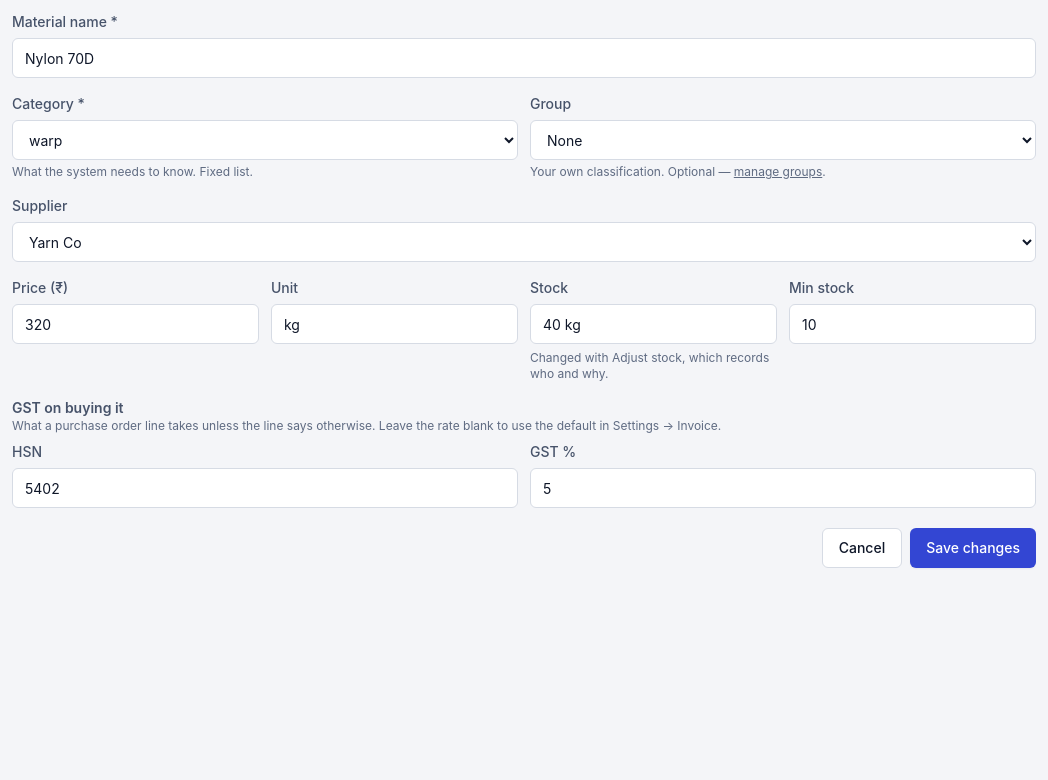
Scenario: HSN and GST % on the material form › refuses HSN 54
The width and height of the screenshot is (1048, 780).
Replace the text in the field labelled "HSN" with "54" at (265, 488), box [12,468,518,508]
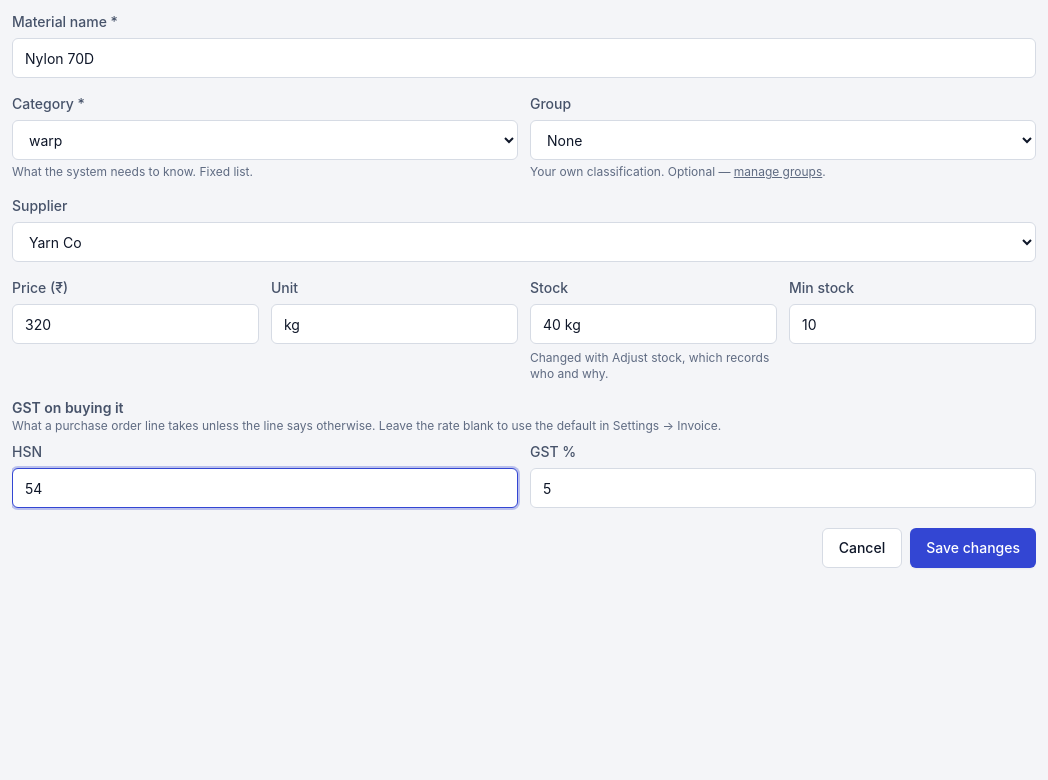
Click the button "Save changes" at (973, 548), box [910,528,1036,568]
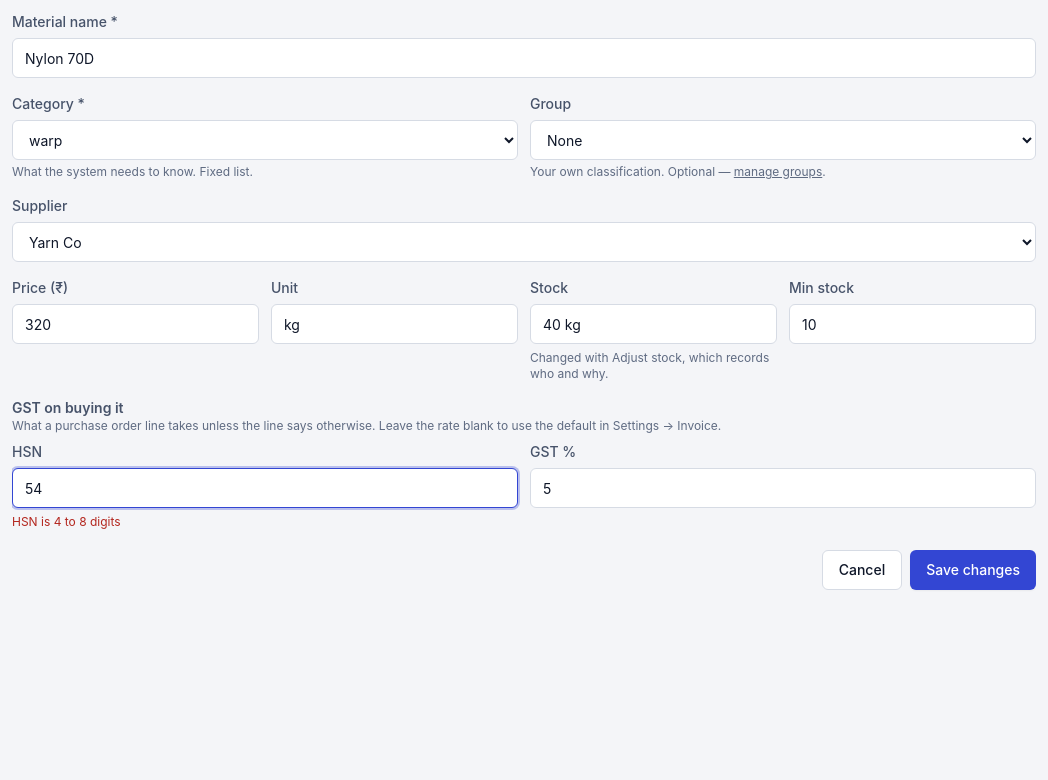
Expected: the text "HSN is 4 to 8 digits" is shown, [12,514,121,529]
